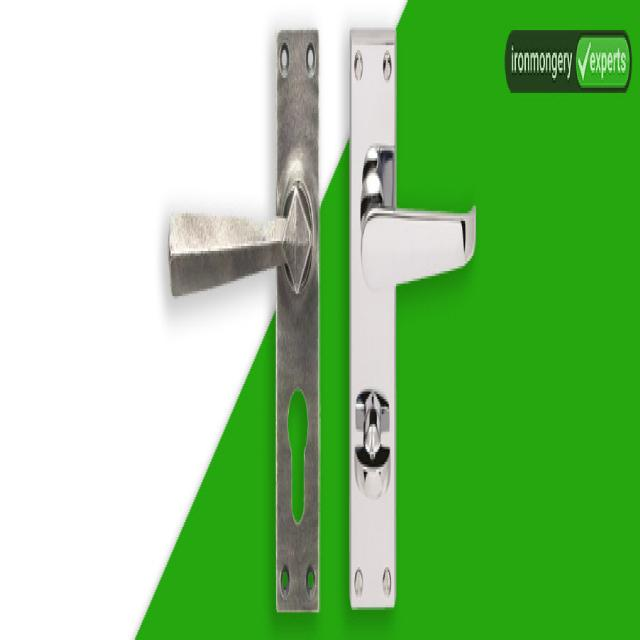door-handle: (169, 181, 312, 296), (361, 150, 476, 287)
